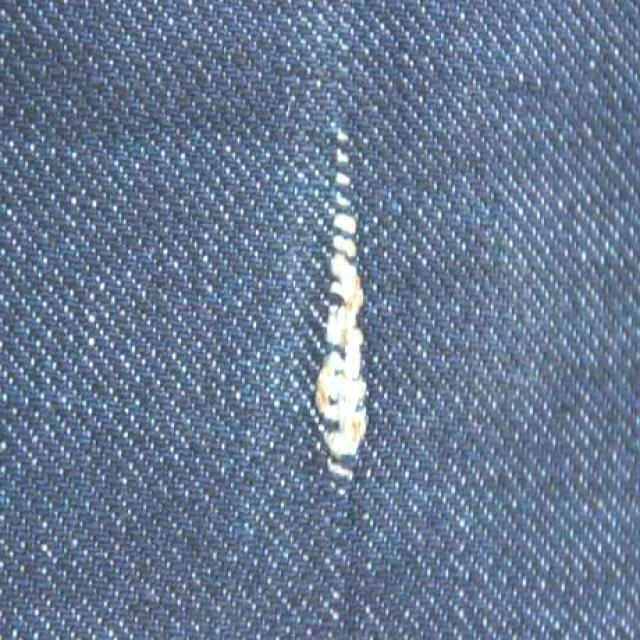Thread_other: (200, 80, 467, 614)
